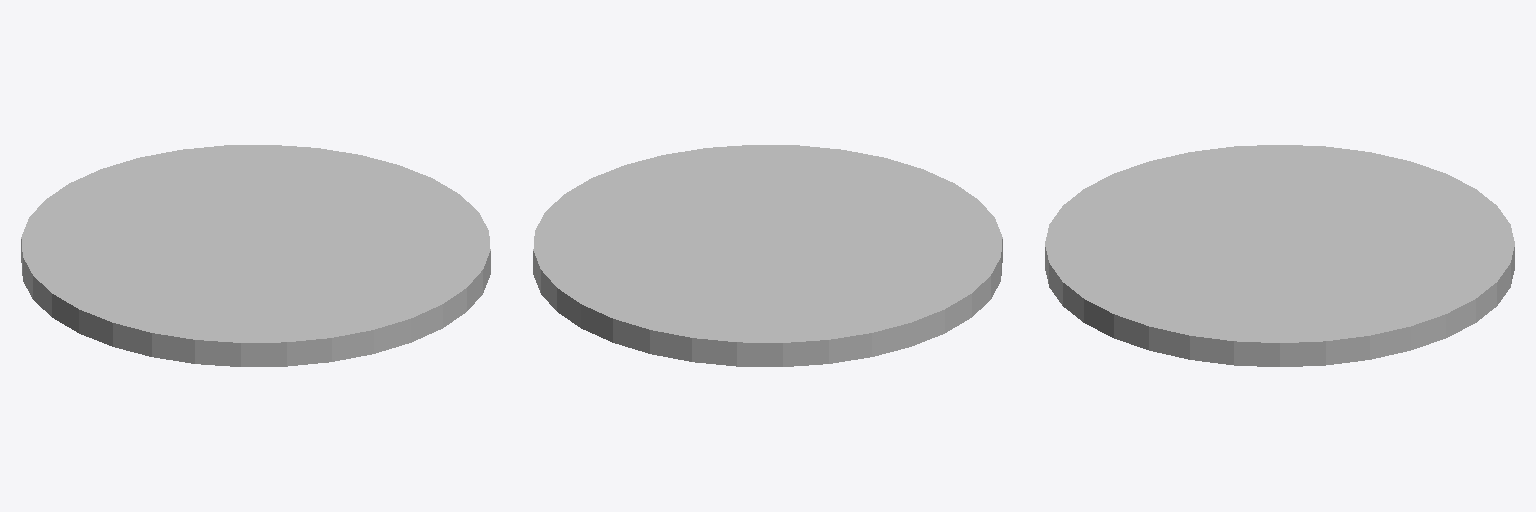
File: platform cylinder.obj
3 views of the same model, side by side, from view 1: azimuth 30°, elevation 25°; view 2: azimuth 150°, elevation 25°; view 3: azimuth 270°, elevation 25° (orthographic).
Parts seen in each view (by area): view 1: Cylinder.001; view 2: Cylinder.001; view 3: Cylinder.001.
Part boxes in pixels (bbox=[...]): Cylinder.001: bbox=[21, 145, 490, 366]; Cylinder.001: bbox=[533, 145, 1002, 366]; Cylinder.001: bbox=[1045, 145, 1514, 366].
Bounding box in the file's own units: 32.23 × 1.83 × 32.23.